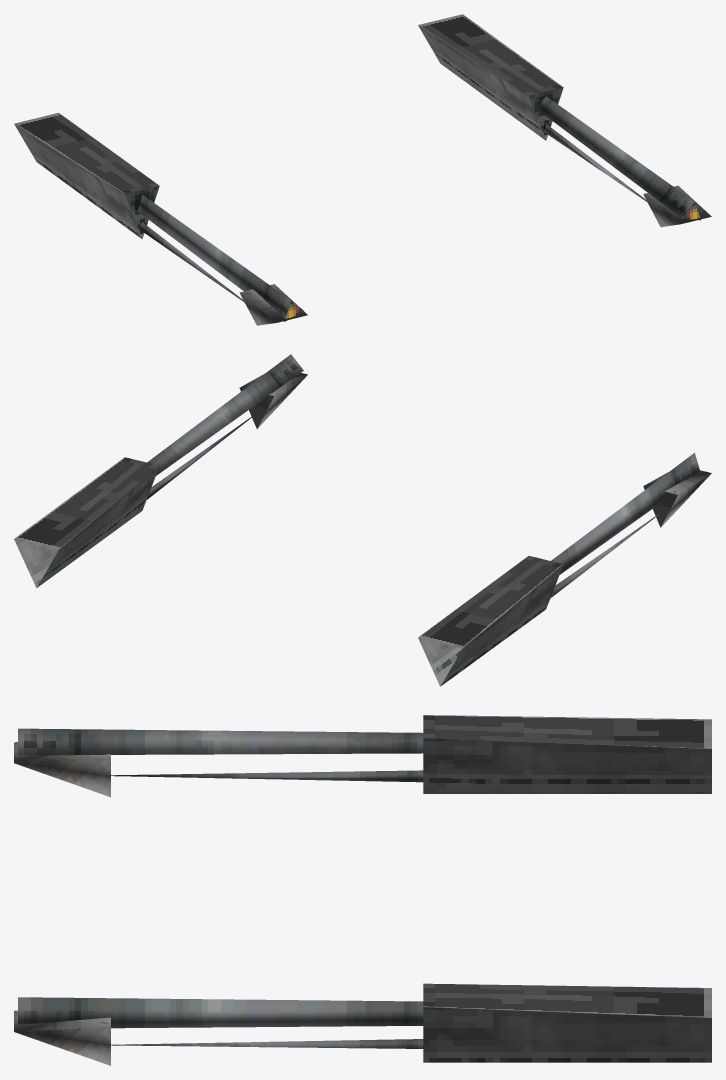
The model's file is hutt_fighter_heavy_weapon1_s06_l3.fbx.
3 renders of one model, top to bottom at view 1: azimuth 30°, elevation 25°; view 2: azimuth 150°, elevation 25°; view 3: azimuth 270°, elevation 25°, orthographic. The views are drawn at different scales.
Parts seen in each view (by area): view 1: mesh_node; view 2: mesh_node; view 3: mesh_node.
Boxes of the visible parts, x1,y1,x2,y2 form: mesh_node: (14,14,711,325); mesh_node: (14,354,711,686); mesh_node: (14,715,711,1065).
Size of the model in its own units: 2.64 by 0.2916 by 2.61.
